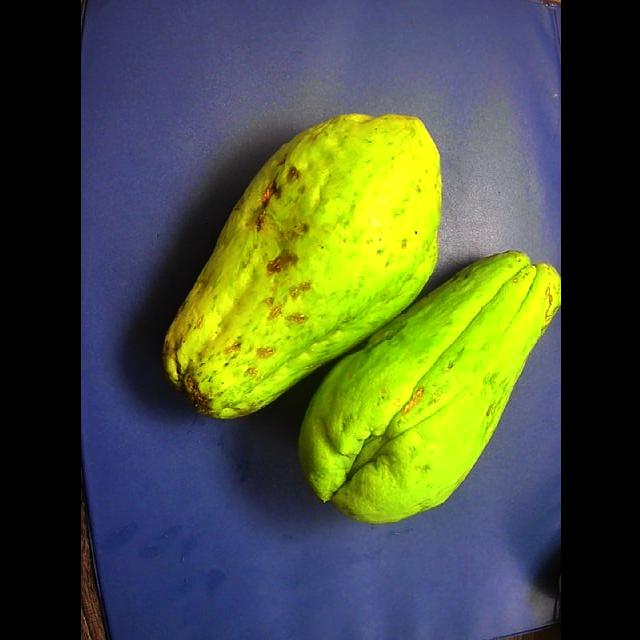chayote: (163, 114, 441, 418), (298, 252, 560, 522)
